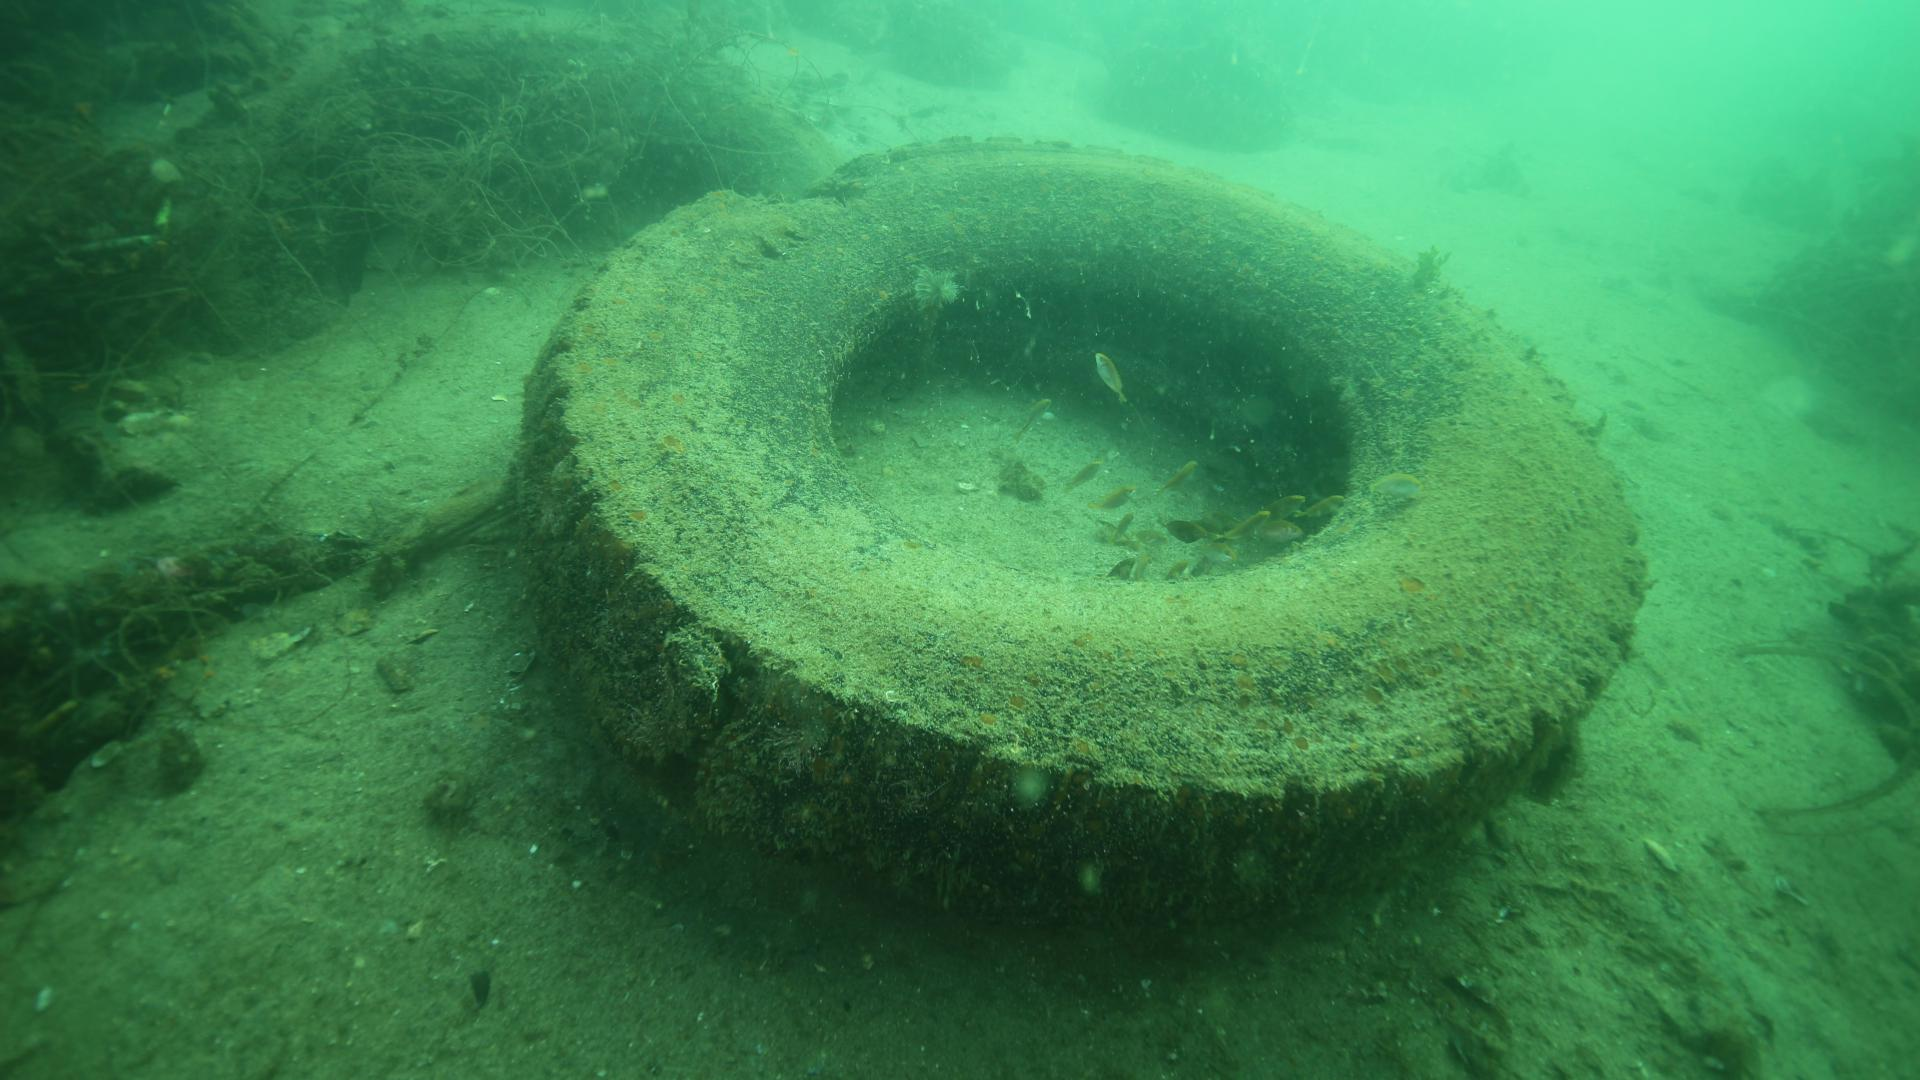tire: (518, 129, 1640, 918)
